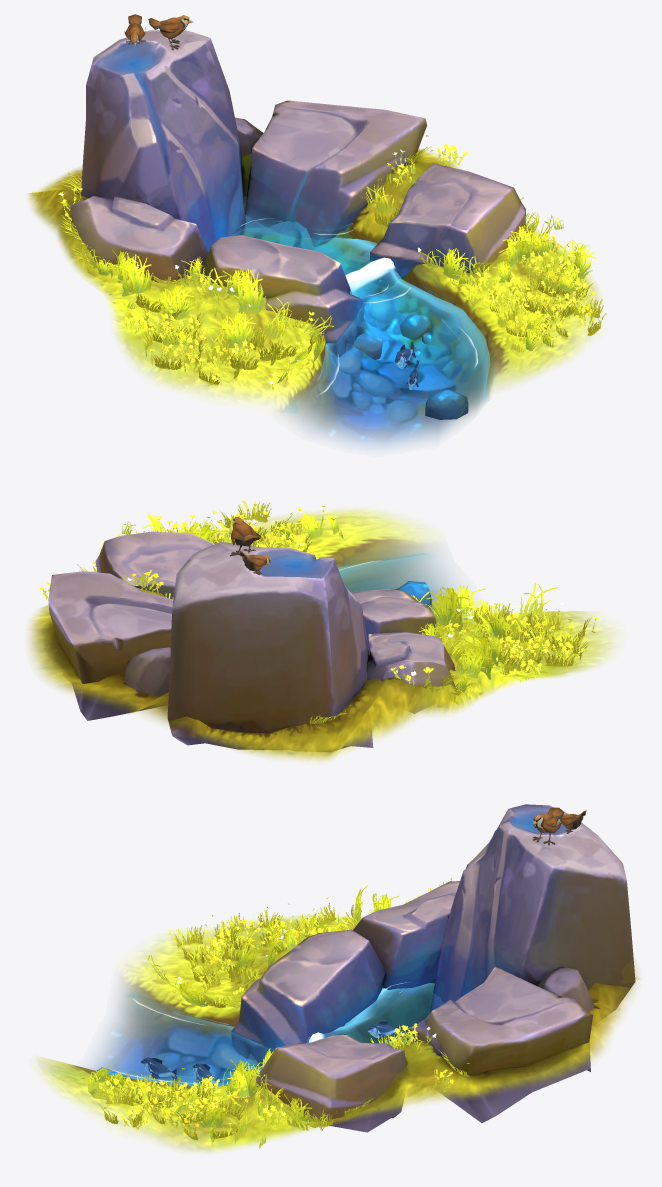
File: grassy_river.glb
3 views of the same model, one above another, from view 1: azimuth 30°, elevation 25°; view 2: azimuth 150°, elevation 25°; view 3: azimuth 270°, elevation 25° (orthographic). The views are drawn at different scales.
Parts seen in each view (by area): view 1: pCube5, polySurface4, pPlane1, grassPlane041, pCylinder1, grassPlane0136, pCylinder13, pCylinder4, pCube20, pCylinder5, pCylinder3, pCylinder11; view 2: pCube5, polySurface4, pCylinder3, pCylinder5, pCylinder13, pPlane1, pCube20, grassPlane041, pCylinder9, grassPlane0136, grassPlane084, pCylinder2 (+2 smaller); view 3: pCube5, polySurface4, pPlane1, pCylinder5, pCylinder13, pCylinder11, pCylinder3, pCylinder4, pCube20, pCylinder9, pCylinder10, pCylinder8.
Boxes of the visible parts, <box> form: pCube5: <box>70,30,526,419</box>; polySurface4: <box>27,132,599,446</box>; pPlane1: <box>236,228,489,413</box>; grassPlane041: <box>224,268,265,314</box>; pCylinder1: <box>345,257,395,294</box>; grassPlane0136: <box>109,254,153,296</box>; pCylinder13: <box>542,294,606,338</box>; pCylinder4: <box>217,326,288,370</box>; pCube20: <box>148,15,193,50</box>; pCylinder5: <box>178,342,246,385</box>; pCylinder3: <box>140,320,206,369</box>; pCylinder11: <box>519,273,582,318</box>; pCube5: <box>48,532,457,751</box>; polySurface4: <box>29,509,616,761</box>; pCylinder3: <box>519,628,587,667</box>; pCylinder5: <box>519,610,591,651</box>; pCylinder13: <box>220,499,292,541</box>; pPlane1: <box>338,553,426,580</box>; pCube20: <box>230,517,261,556</box>; grassPlane041: <box>426,587,469,627</box>; pCylinder9: <box>473,603,543,644</box>; grassPlane0136: <box>459,635,497,679</box>; grassPlane084: <box>457,648,492,678</box>; pCylinder2: <box>486,634,545,671</box>; pCube5: <box>88,804,635,1132</box>; polySurface4: <box>37,916,640,1152</box>; pPlane1: <box>111,983,438,1086</box>; pCylinder5: <box>174,921,239,962</box>; pCylinder13: <box>98,1087,164,1127</box>; pCylinder11: <box>145,1078,211,1124</box>; pCylinder3: <box>220,909,287,950</box>; pCylinder4: <box>187,941,253,982</box>; pCube20: <box>533,807,564,845</box>; pCylinder9: <box>187,942,249,983</box>; pCylinder10: <box>177,1092,244,1140</box>; pCylinder8: <box>199,967,263,1008</box>.
Size of the model in its own units: 2.43 by 1.25 by 2.67.
Materials: 5 (5 with a texture image).
